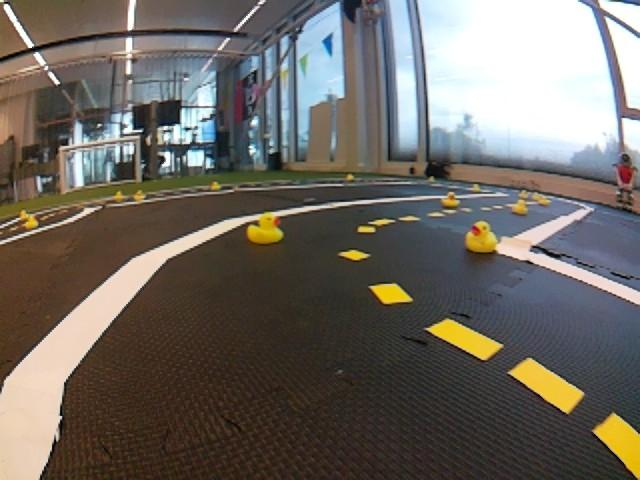Duckies: (246, 211, 286, 244), (462, 219, 500, 253), (440, 190, 462, 208), (511, 200, 529, 215), (23, 215, 39, 228), (535, 195, 551, 205), (134, 191, 146, 200), (114, 192, 126, 200), (211, 183, 222, 190), (518, 192, 528, 199), (471, 185, 480, 191), (346, 176, 354, 181)
